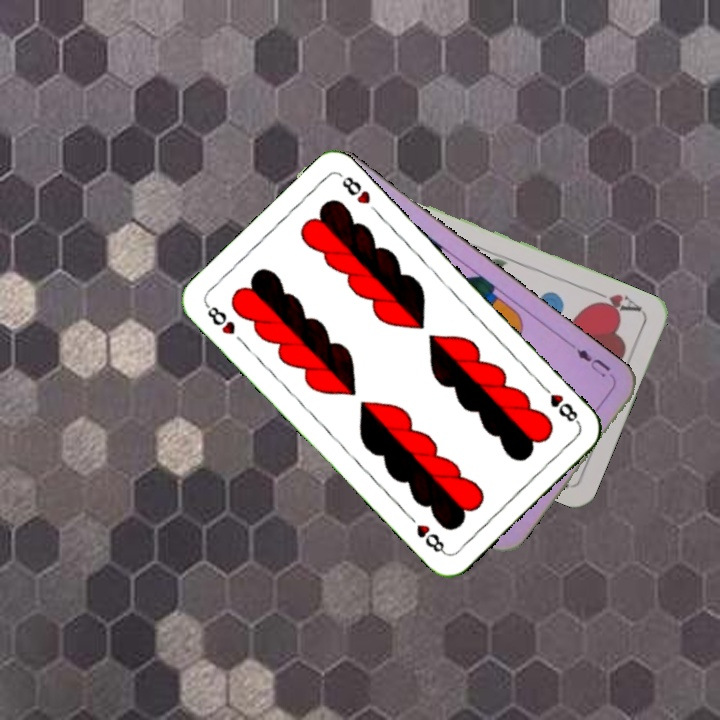EU: (567, 342, 613, 380)
H8: (536, 380, 583, 427), (201, 300, 238, 338)
HA: (586, 286, 644, 317)
